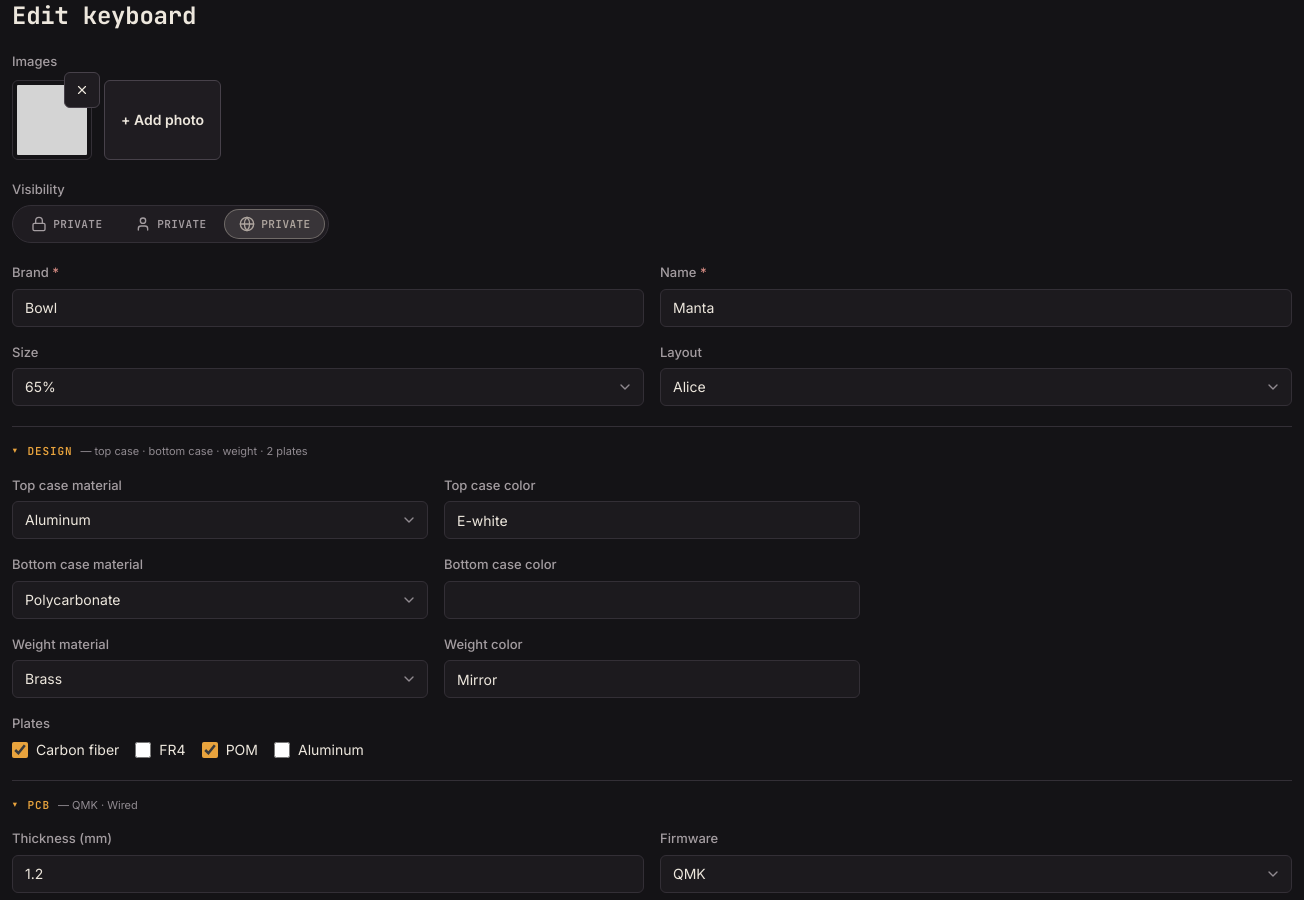
Test: KeyboardForm.svelte › dirty › ignores the order of plates
Click the checkbox labelled "POM" at (210, 750), box 202,742 -> 218,758
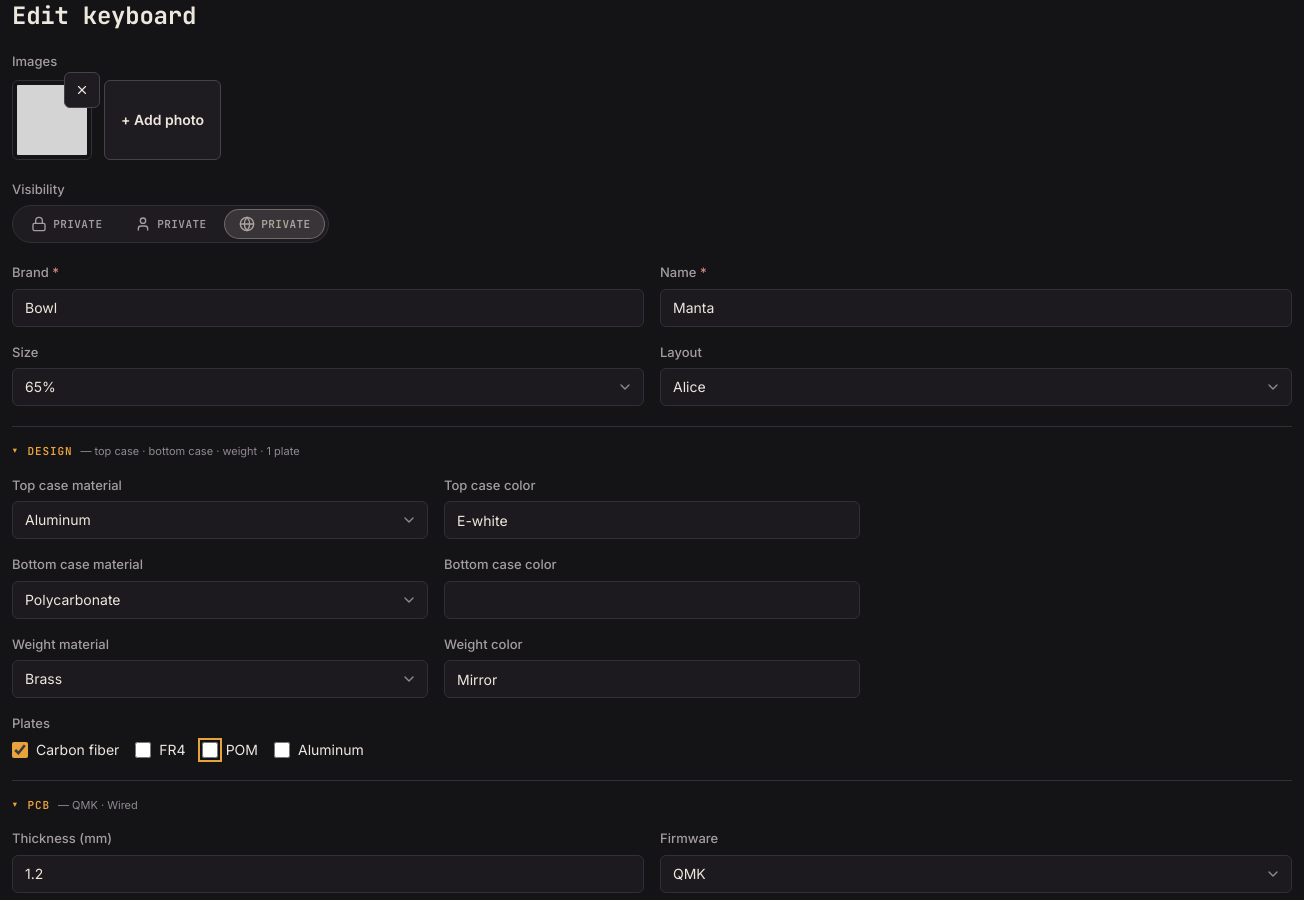
Click the checkbox labelled "POM" at (210, 750), box 202,742 -> 218,758
(page scrolled)
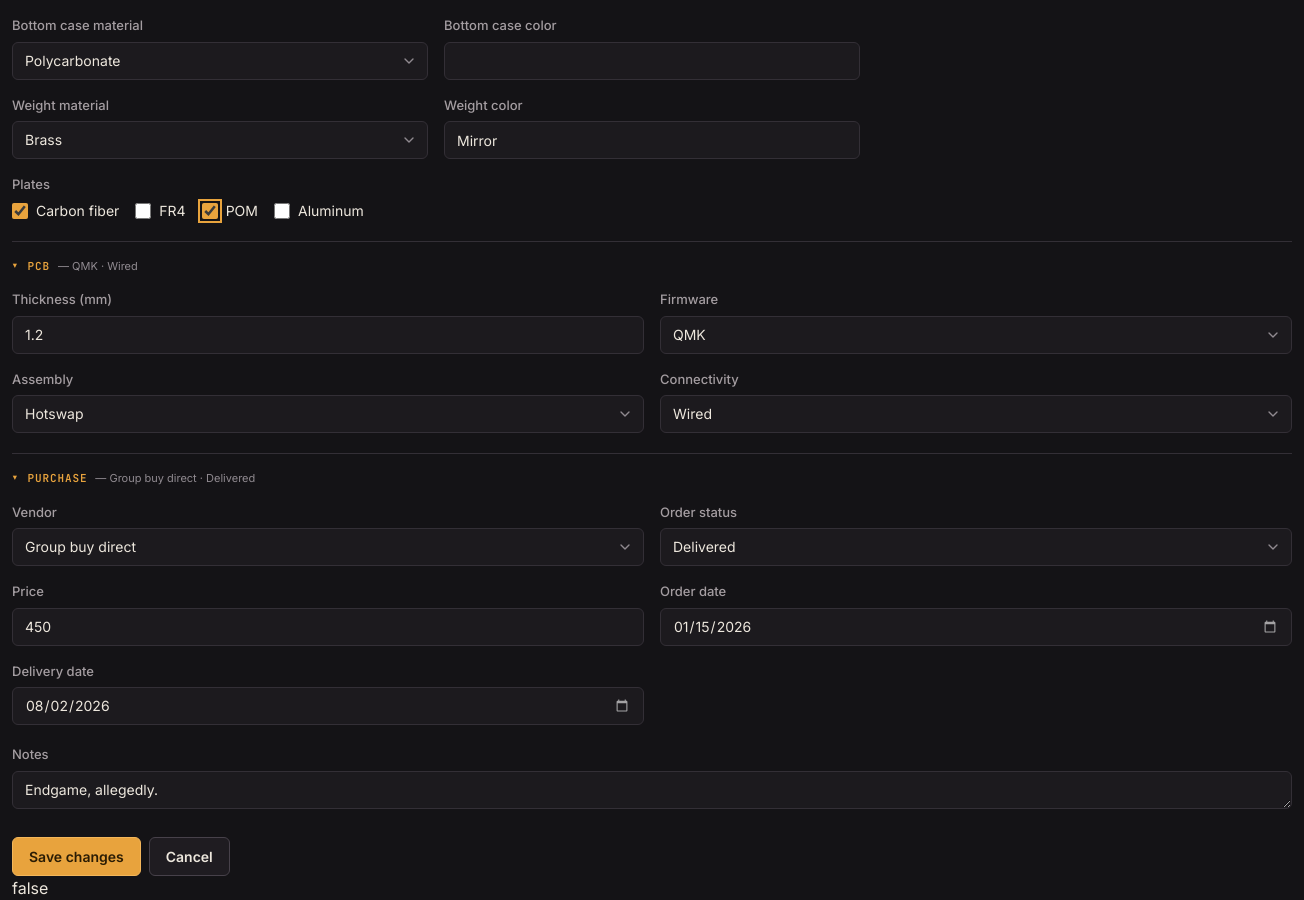
Result: the text with test id "dirty" reads "false" at 12,878 -> 48,898
